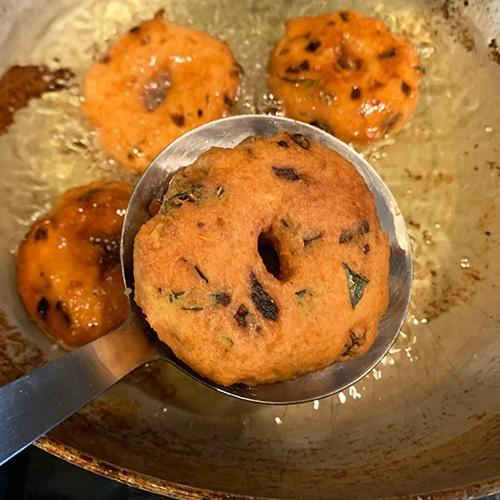mvada: (151, 156, 367, 349)
